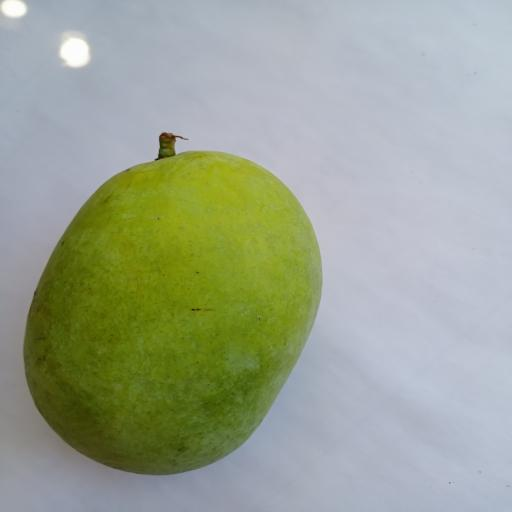mango-unripe: (0, 109, 352, 493)
